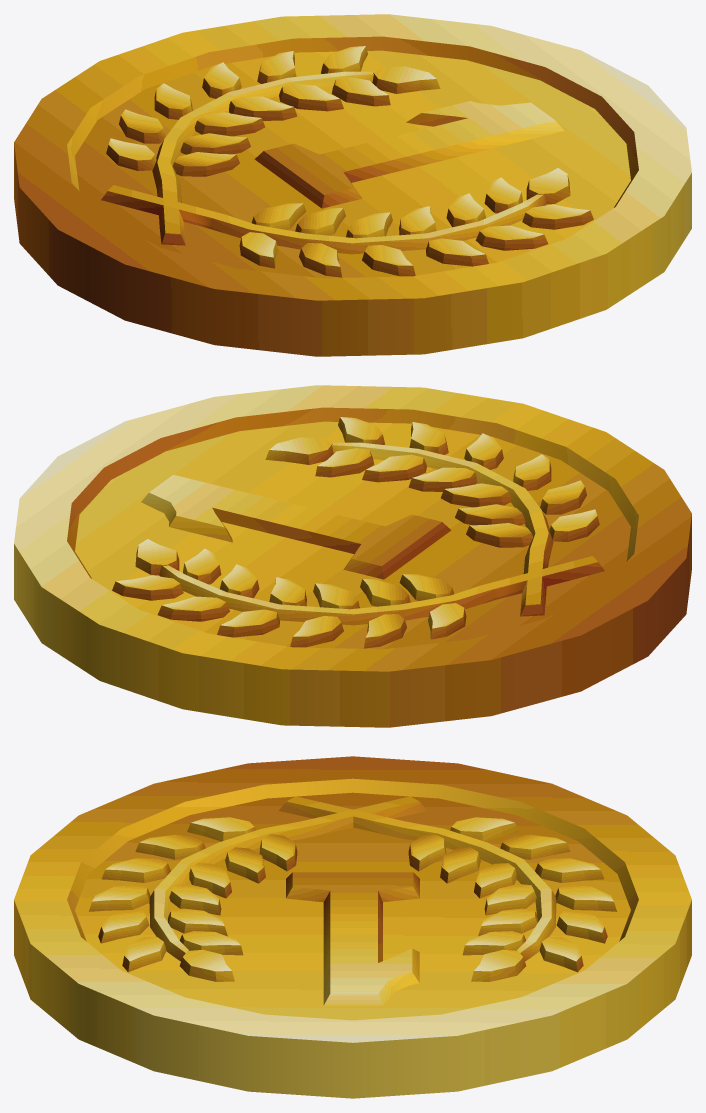
The model's file is RioV3Board.glb.
The picture shows the model from 3 angles, top to bottom: view 1: azimuth 30°, elevation 25°; view 2: azimuth 150°, elevation 25°; view 3: azimuth 270°, elevation 25°; orthographic projection.
Parts seen in each view (by area): view 1: RioV3Board; view 2: RioV3Board; view 3: RioV3Board.
Boxes of the visible parts, box(x1,y1,x2,y2) form: RioV3Board: box(14, 14, 691, 356); RioV3Board: box(14, 385, 691, 727); RioV3Board: box(14, 756, 691, 1098).
Size of the model in its own units: 7.46 by 0.677 by 7.46.
1 material, 1 textured.
